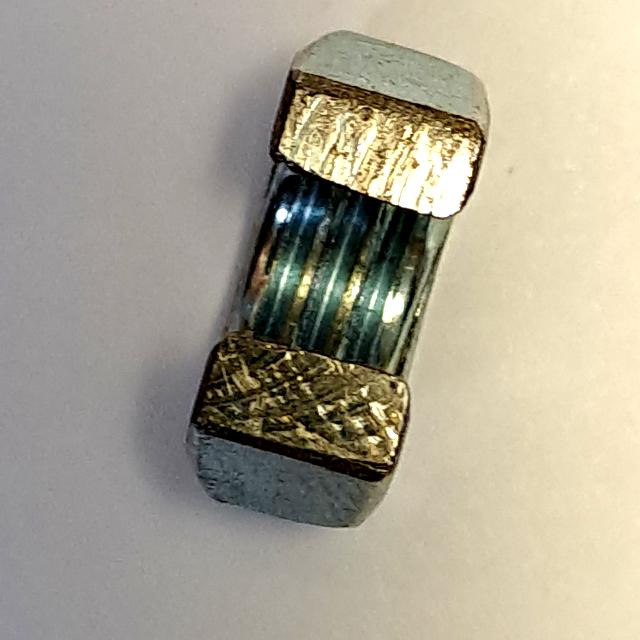Side-Fracture: (177, 23, 502, 548)
